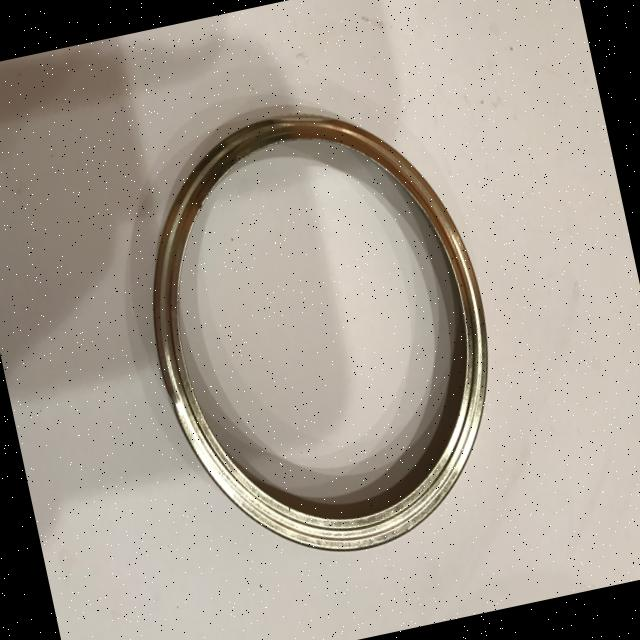metal: (112, 80, 528, 583)
